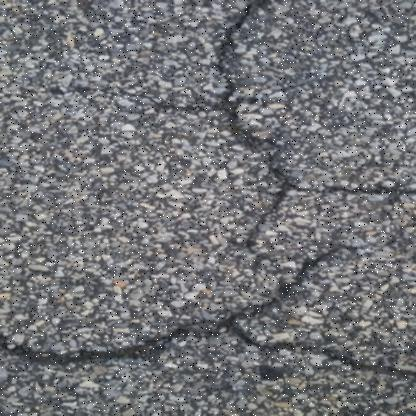Cracks: (129, 0, 416, 264), (0, 243, 416, 382)
